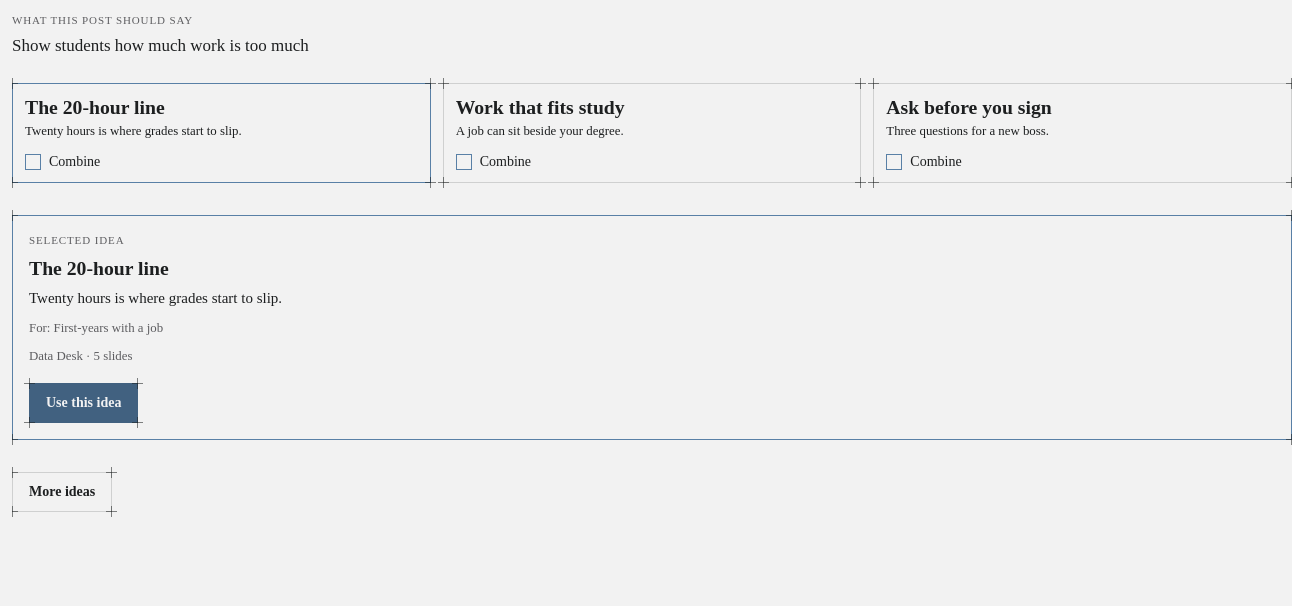
Test: keeps the pre-selected "Use this idea" the one filled button once "Combine" shows
The image size is (1292, 606).
Click the checkbox named "Combine" below "Three questions for a new boss.".
click(894, 162)  # box [886, 154, 902, 170]
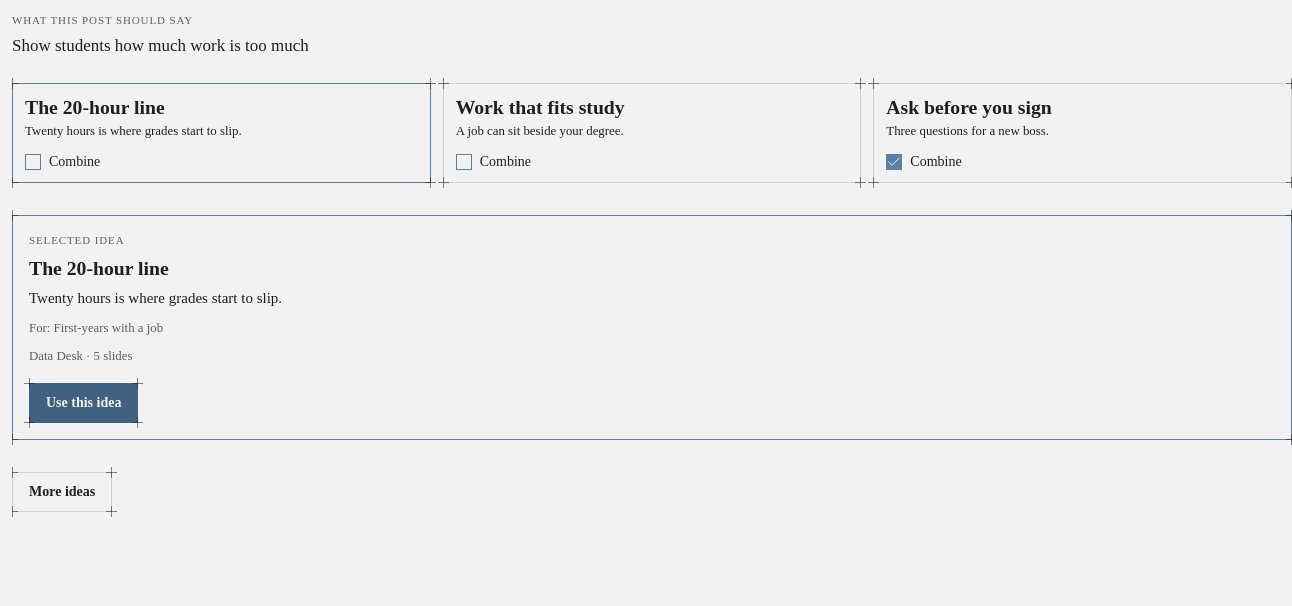
Click the 1st checkbox named "Combine".
click(33, 162)  # box [25, 154, 41, 170]
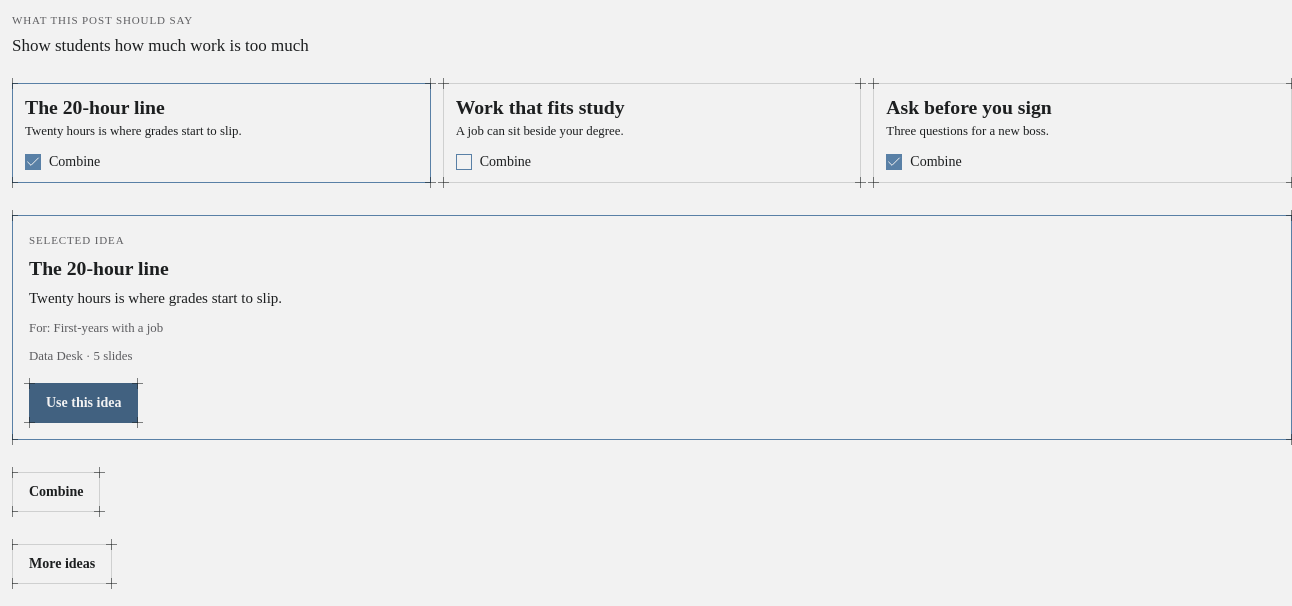
Expected: the button "Use this idea" is shown, [29, 382, 138, 422]
Now the button "Combine" is shown, box [12, 472, 100, 512]
